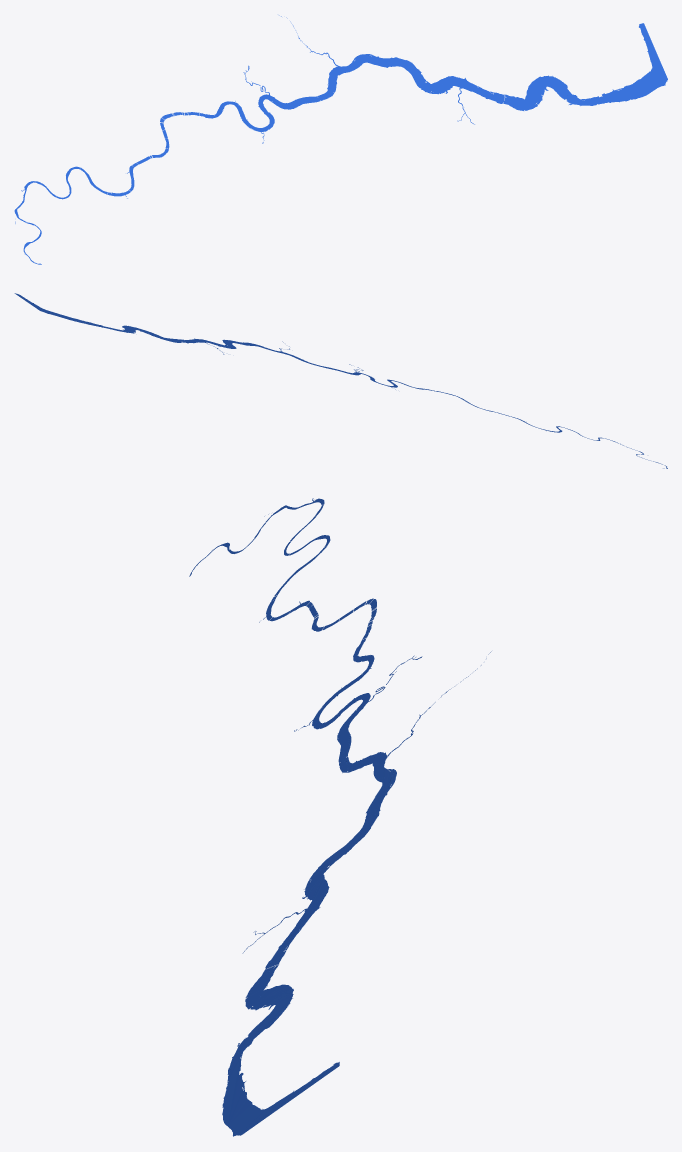
Rendered from TQ_TidalWater_503500_155500_CARTESIAN.dae.
The picture shows the model from 3 angles, top to bottom: view 1: azimuth 30°, elevation 25°; view 2: azimuth 150°, elevation 25°; view 3: azimuth 270°, elevation 25°; orthographic projection. The views are drawn at different scales.
Visible parts, largest first — view 1: poly67, poly61, poly23, poly64, poly19; view 2: poly67; view 3: poly67, poly61, poly23, poly64.
Boxes of the visible parts, x1,y1,x2,y2 form: poly67: (535, 23, 667, 105); poly61: (410, 71, 504, 103); poly23: (317, 52, 396, 90); poly64: (504, 80, 542, 110); poly19: (278, 88, 335, 109); poly67: (14, 293, 148, 334); poly67: (222, 987, 339, 1136); poly61: (265, 842, 349, 969); poly23: (352, 723, 415, 821); poly64: (245, 964, 290, 1010).
Size of the model in its own units: 54.04 by 11.42 by 9.13.
